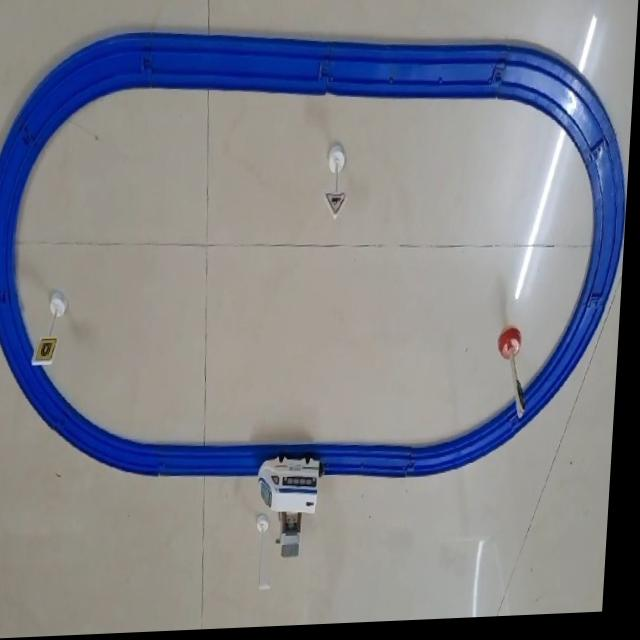bus: (261, 457, 330, 520)
